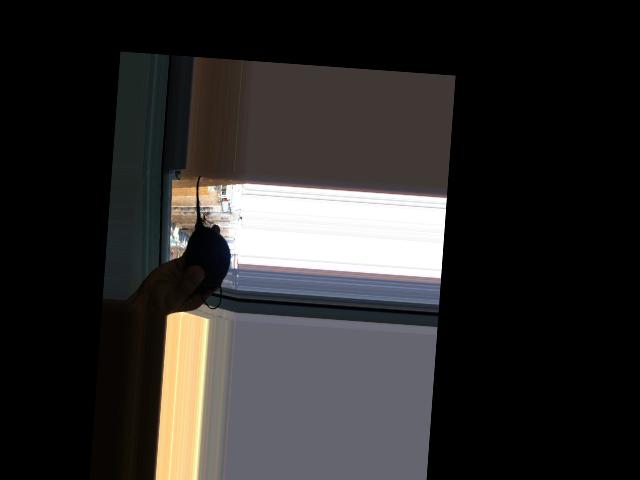beet: (181, 175, 236, 309)
